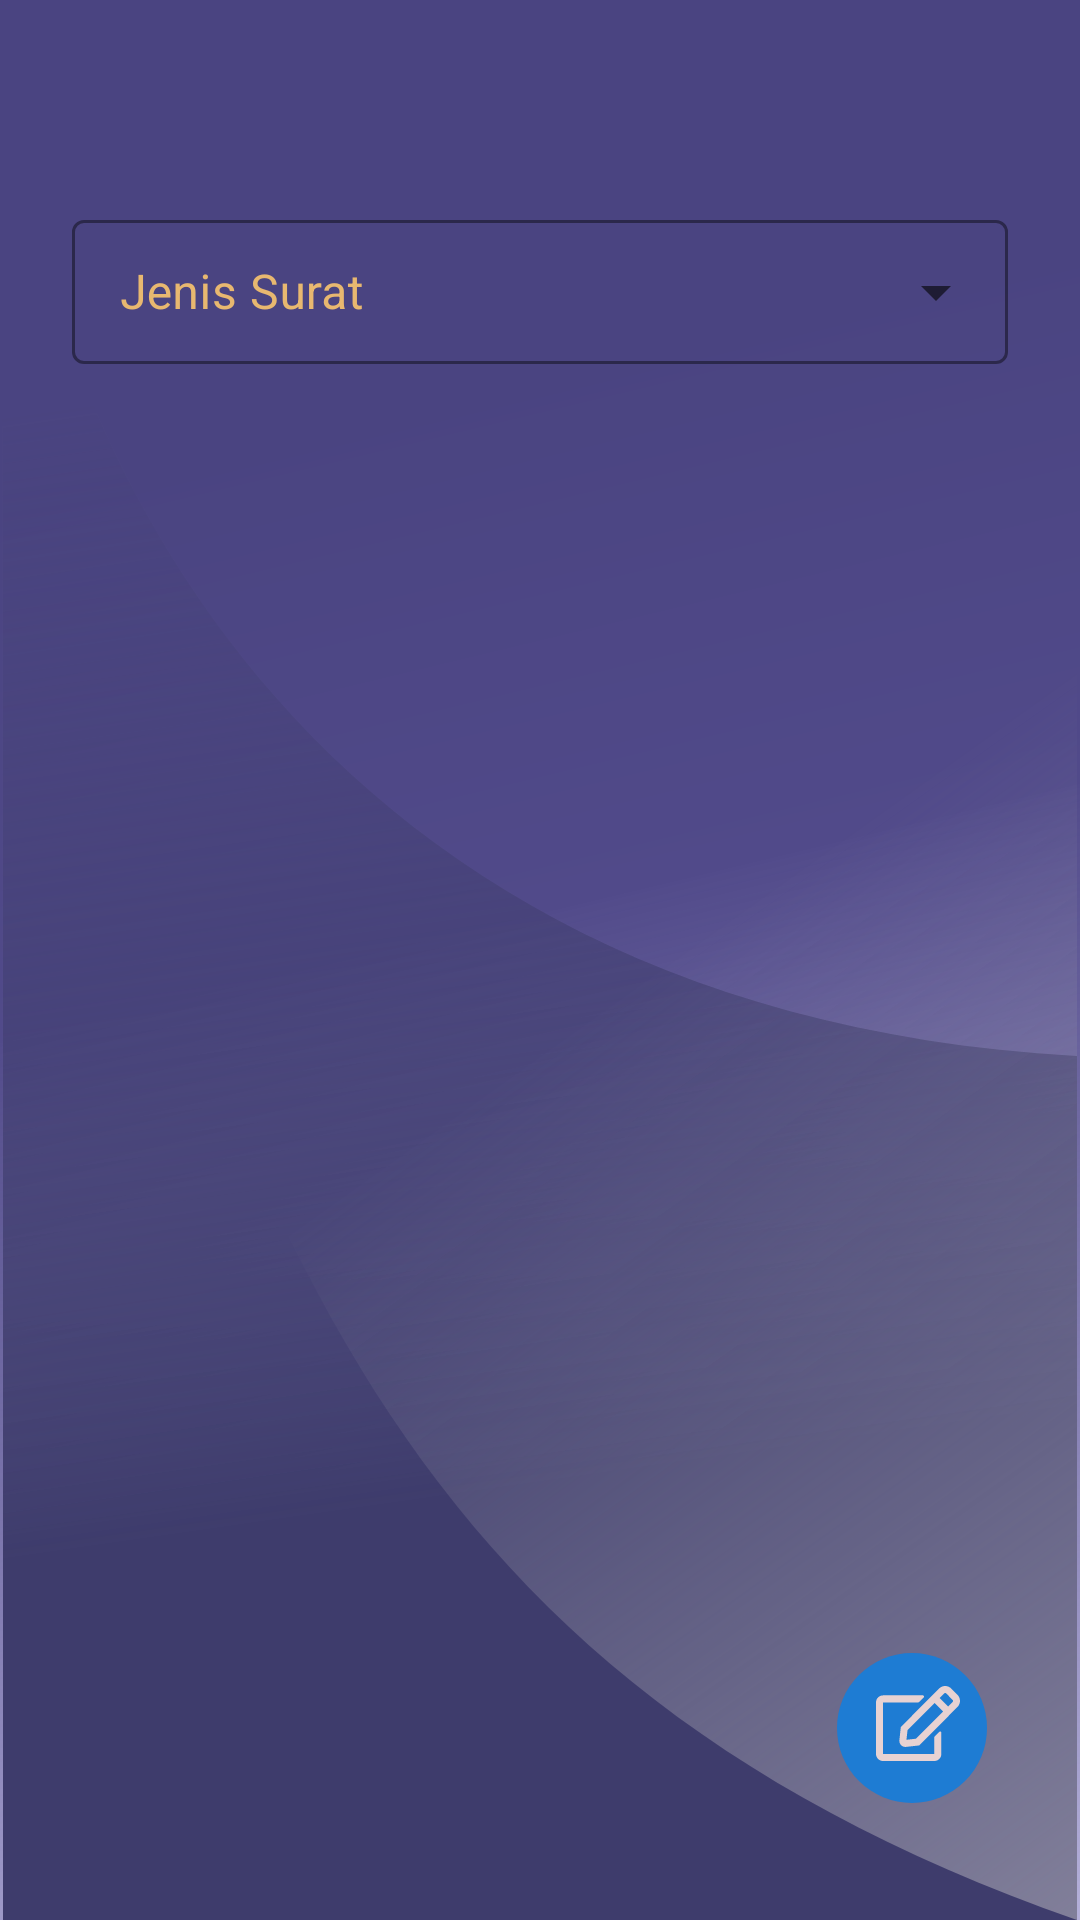

Named icons in this screenshot (1080px x 1920px) and their centers, (x,y):
request surat: (912,1728)
